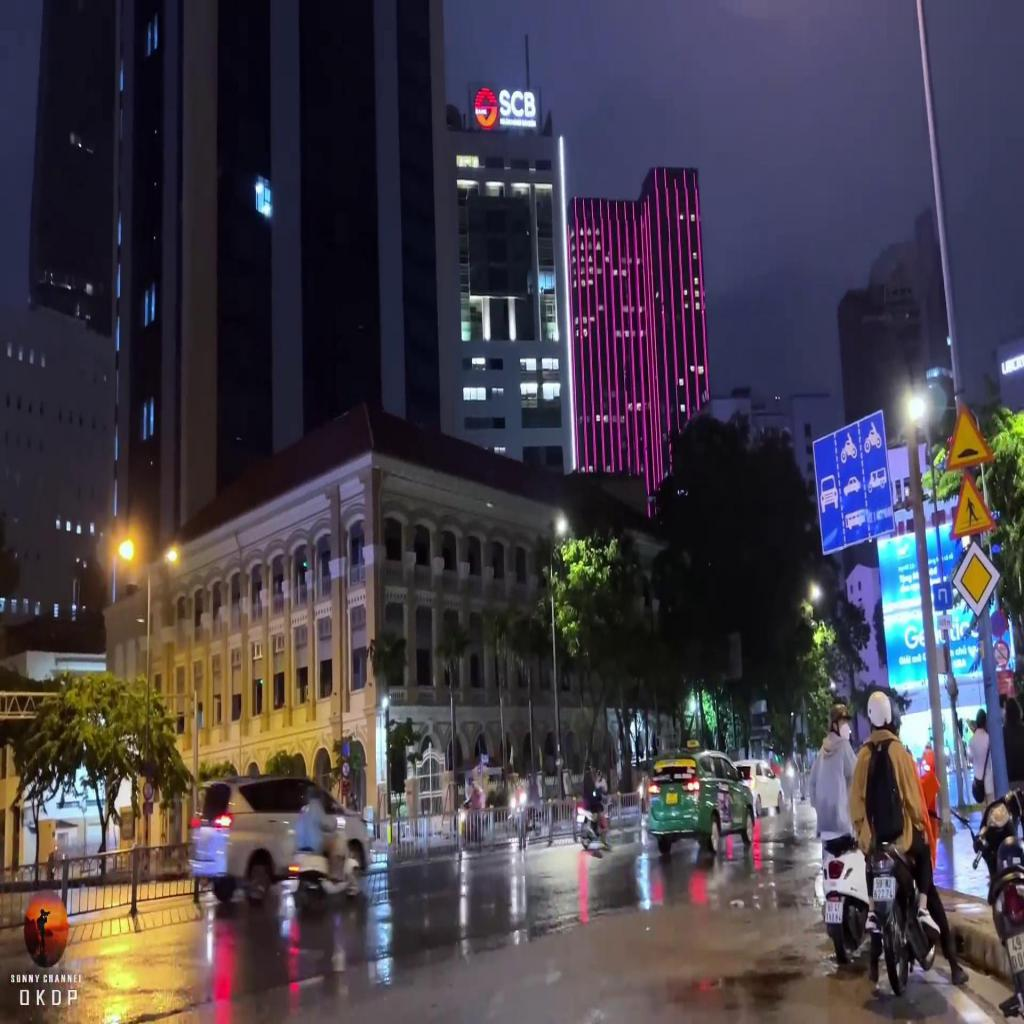cho_quay_xe: (934, 580, 952, 609)
chu_y_nguoi_di_bo_cat_ngang: (949, 468, 997, 544)
duong_co_song_map_mo_nhan_tao: (944, 401, 993, 468)
duong_uu_tien: (952, 540, 1000, 616)
khac: (936, 614, 952, 630)
lan_duong_cho_tung_xe_theo_vach_ke_duong: (812, 408, 896, 556)
